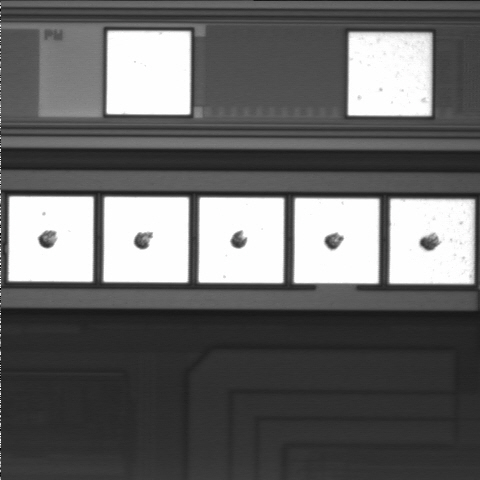pad: (104, 197, 189, 282), (199, 198, 284, 283), (294, 198, 379, 283), (389, 199, 474, 284), (9, 197, 93, 282), (107, 31, 190, 114), (348, 33, 431, 116)
